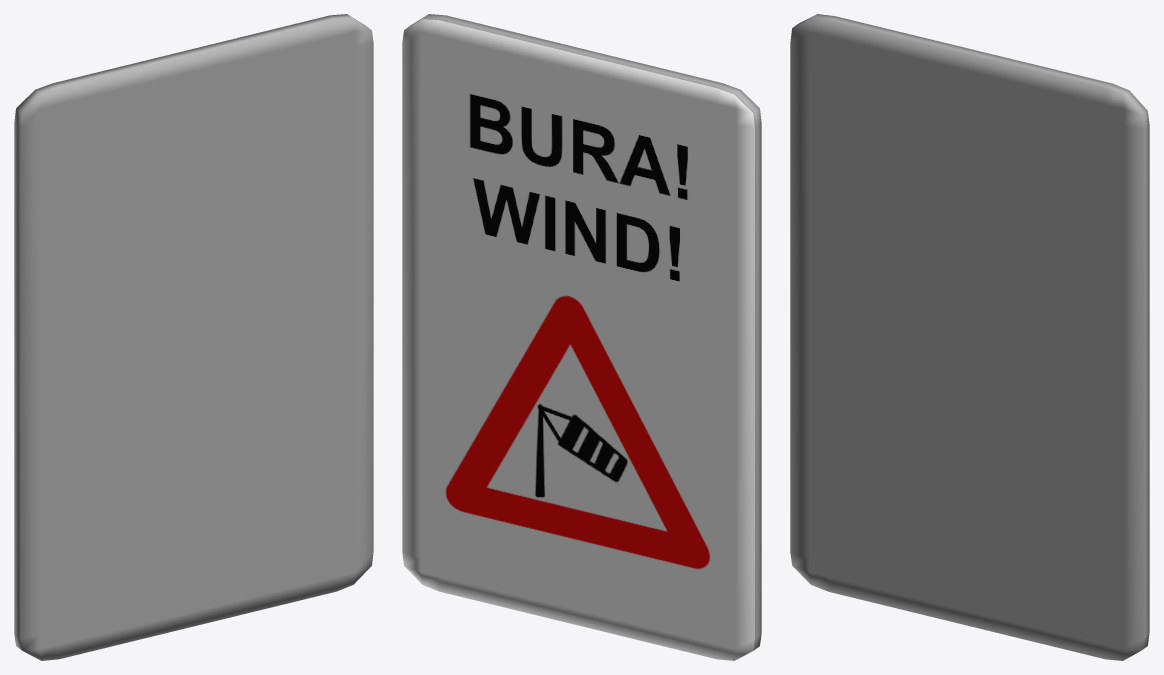
The model's file is bura.fbx.
3 renders of one model, left to right at view 1: azimuth 30°, elevation 25°; view 2: azimuth 150°, elevation 25°; view 3: azimuth 330°, elevation 25°, orthographic.
Parts seen in each view (by area): view 1: Bura; view 2: Bura; view 3: Bura.
Boxes of the visible parts, x1,y1,x2,y2 form: Bura: (14, 14, 373, 660); Bura: (402, 14, 761, 660); Bura: (790, 14, 1149, 660).
Bounding box in the file's own units: 711 × 1101 × 23.02.
